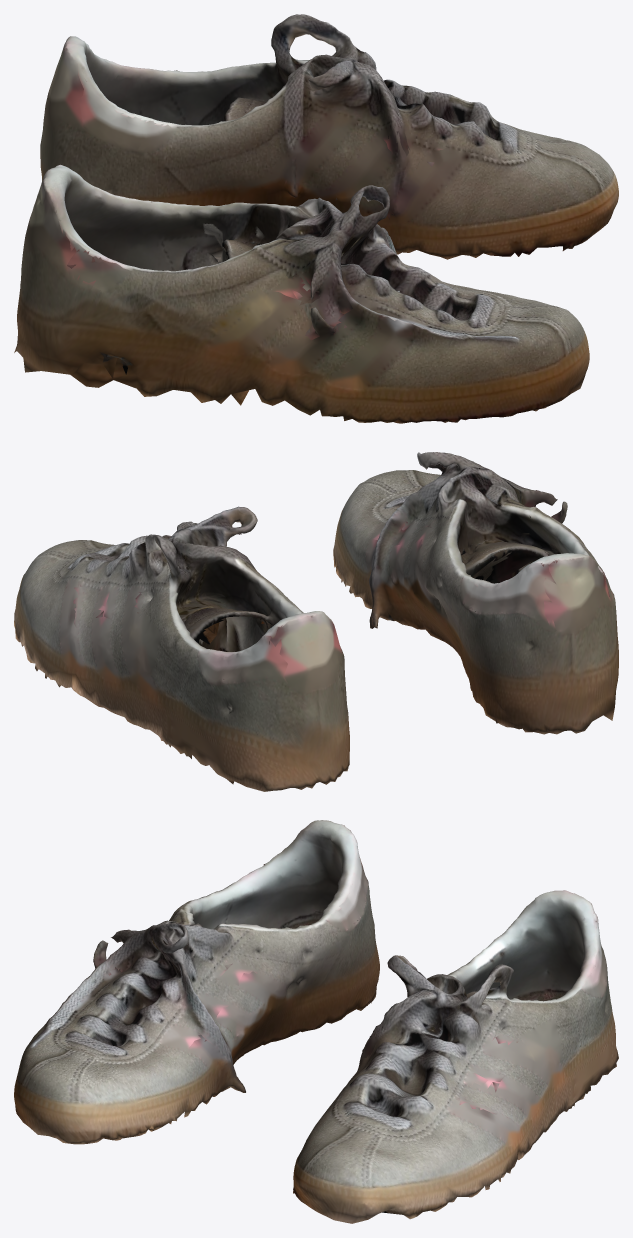
Rendered from genkan_shoe2.glb.
3 renders of one model, top to bottom at view 1: azimuth 30°, elevation 25°; view 2: azimuth 150°, elevation 25°; view 3: azimuth 270°, elevation 25°, orthographic. The views are drawn at different scales.
Visible parts, largest first — view 1: scan; view 2: scan; view 3: scan.
Boxes of the visible parts, bbox=[...] form: scan: bbox=[14, 14, 618, 423]; scan: bbox=[14, 452, 618, 791]; scan: bbox=[14, 820, 618, 1223].
Bounding box in the file's own units: 0.3325 × 0.0961 × 0.3243.
1 material, 1 textured.
